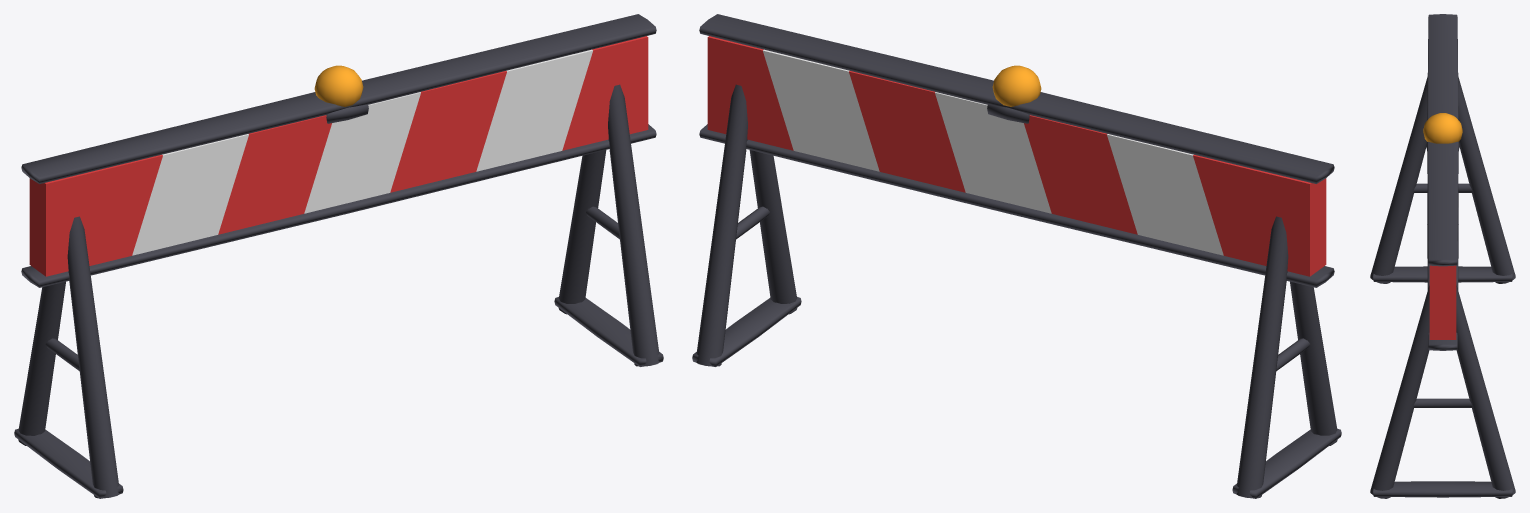
Rendered from SkateBarrier.obj.
3 renders of one model, left to right at view 1: azimuth 30°, elevation 25°; view 2: azimuth 150°, elevation 25°; view 3: azimuth 270°, elevation 25°, orthographic. The views are drawn at different scales.
Visible parts, largest first — view 1: Legs, Red, White, Lamp; view 2: Legs, Red, White, Lamp; view 3: Legs, Red, Lamp.
Part boxes in pixels (bbox=[...]): Legs: bbox=[14, 14, 663, 498]; Red: bbox=[29, 36, 648, 276]; White: bbox=[132, 49, 592, 255]; Lamp: bbox=[314, 65, 363, 106]; Legs: bbox=[692, 14, 1341, 498]; Red: bbox=[707, 36, 1326, 276]; White: bbox=[763, 49, 1223, 255]; Lamp: bbox=[992, 65, 1041, 106]; Legs: bbox=[1370, 14, 1515, 498]; Red: bbox=[1429, 265, 1456, 339]; Lamp: bbox=[1423, 113, 1462, 143].
Bounding box in the file's own units: 7 × 3.63 × 1.74.
